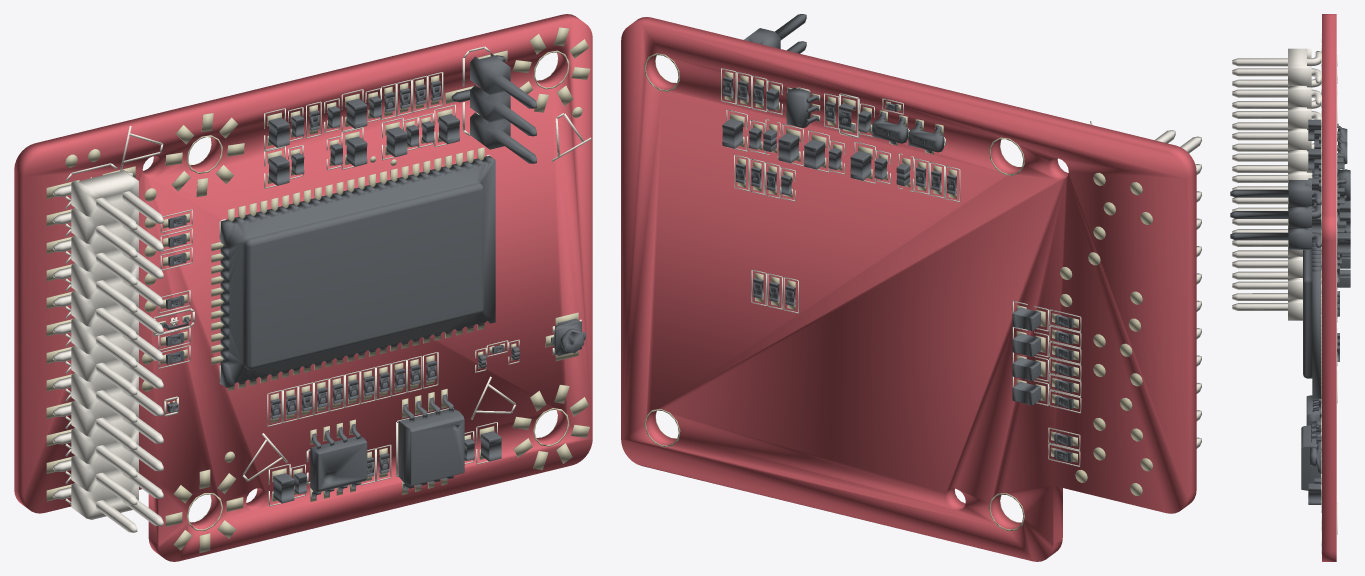
Rendered from pcb-bluetooth.glb.
The picture shows the model from 3 angles, left to right: view 1: azimuth 30°, elevation 25°; view 2: azimuth 150°, elevation 25°; view 3: azimuth 270°, elevation 25°; orthographic projection. The views are drawn at different scales.
Parts seen in each view (by area): view 1: pcb, body, plastic, pads, silk; view 2: pcb, body, pads, silk, plastic; view 3: plastic, body, pcb, pads, silk.
Boxes of the visible parts, x1=… form: pcb: x1=14, y1=14, x2=592, y2=561; body: x1=160, y1=53, x2=585, y2=503; plastic: x1=53, y1=169, x2=163, y2=532; pads: x1=46, y1=27, x2=590, y2=552; silk: x1=65, y1=46, x2=591, y2=506; pcb: x1=621, y1=17, x2=1196, y2=561; body: x1=722, y1=14, x2=1073, y2=462; pads: x1=644, y1=53, x2=1152, y2=530; silk: x1=721, y1=68, x2=1092, y2=466; plastic: x1=1154, y1=130, x2=1201, y2=448; plastic: x1=1232, y1=48, x2=1321, y2=320; body: x1=1230, y1=119, x2=1350, y2=504; pcb: x1=1322, y1=14, x2=1336, y2=561; pads: x1=1321, y1=34, x2=1337, y2=553; silk: x1=1321, y1=45, x2=1321, y2=512.
Bounding box in the file's own units: 55 × 41.35 × 12.97.
